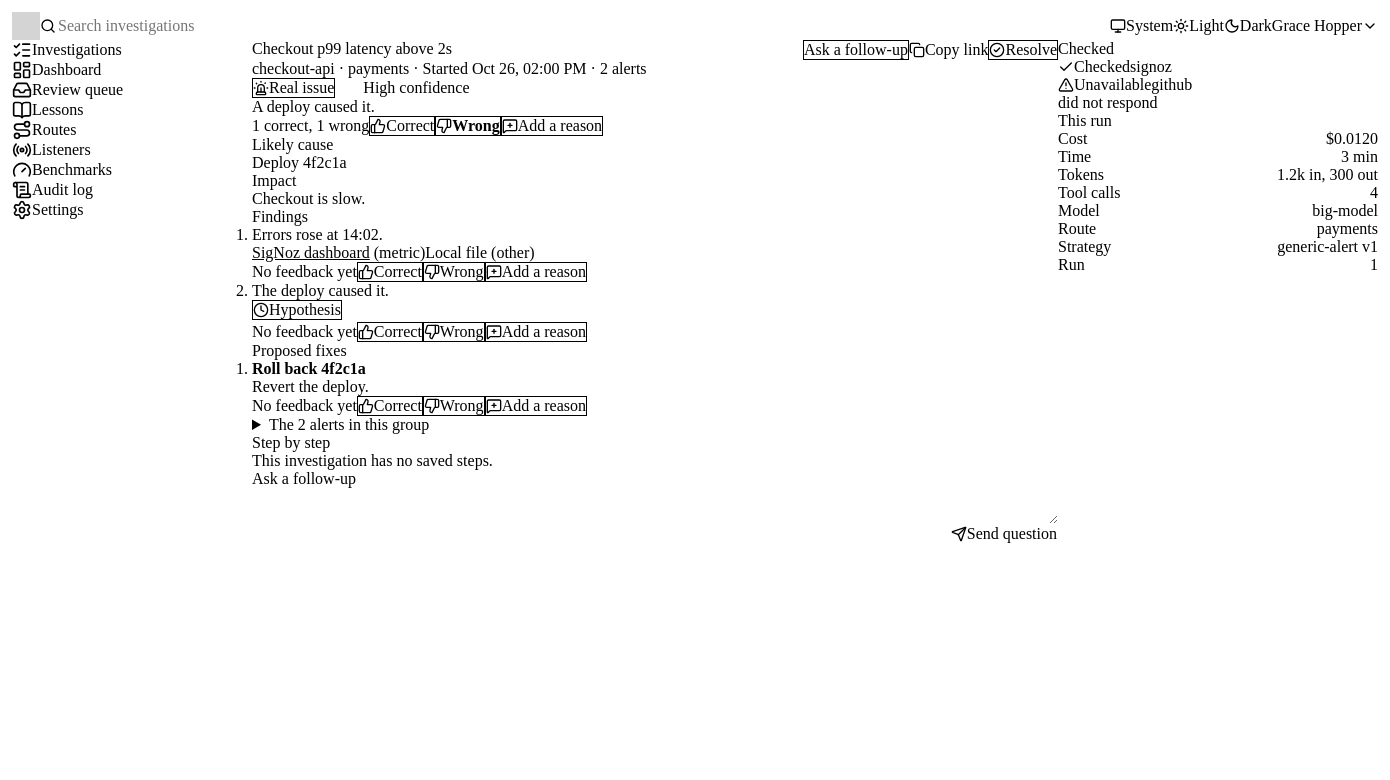
Test: feedback on the parts of an investigation › shows the user's own rating as pressed, and starts the form with what they said
The width and height of the screenshot is (1390, 780).
Step 1. Click the button with aria-label "Mark the verdict wrong" → (468, 126), box 435,116 -> 501,136
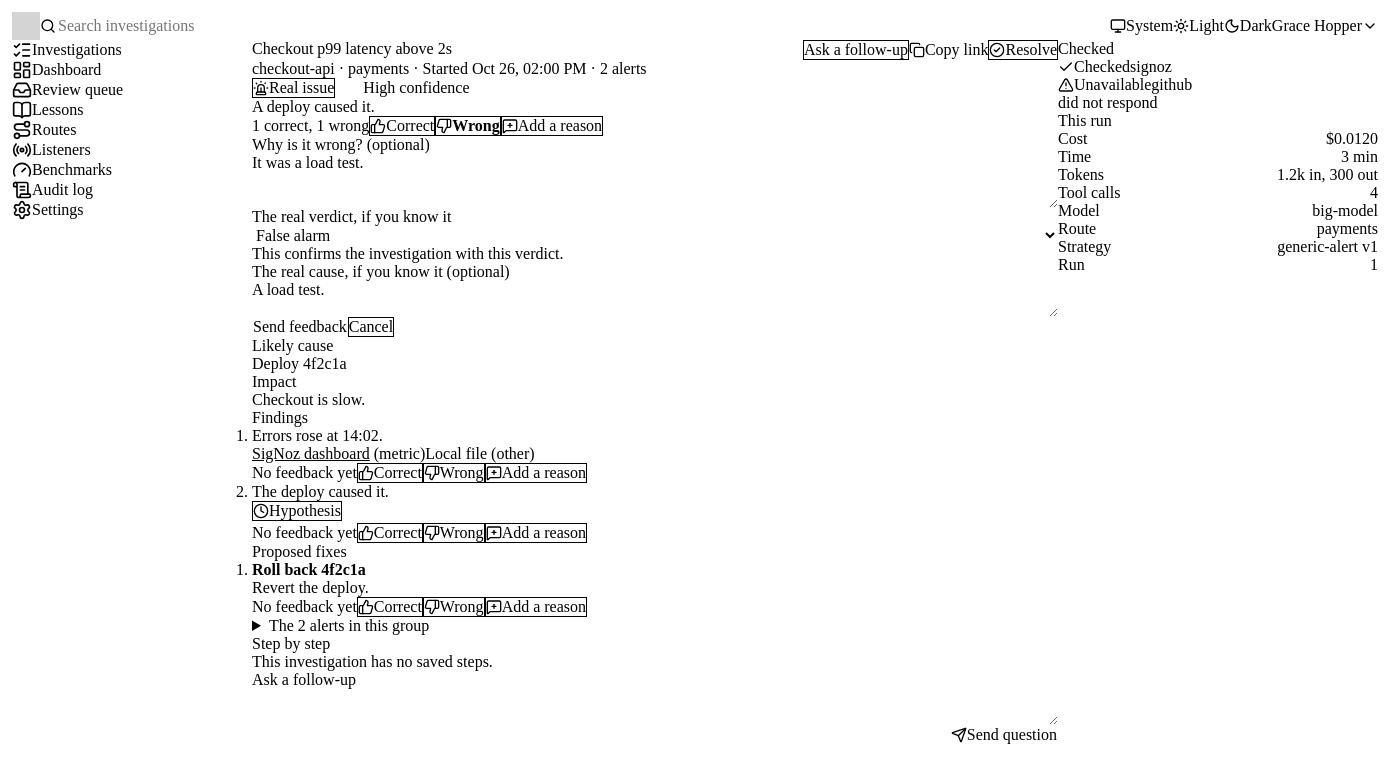
Expected: the text box labelled "Why is it wrong? (optional)" holds "It was a load test.", 252,154 -> 1058,208
Expected: the dropdown labelled "The real verdict, if you know it" shows "False alarm", 252,226 -> 1058,245
Expected: the text box labelled "The real cause, if you know it (optional)" holds "A load test.", 252,281 -> 1058,317
